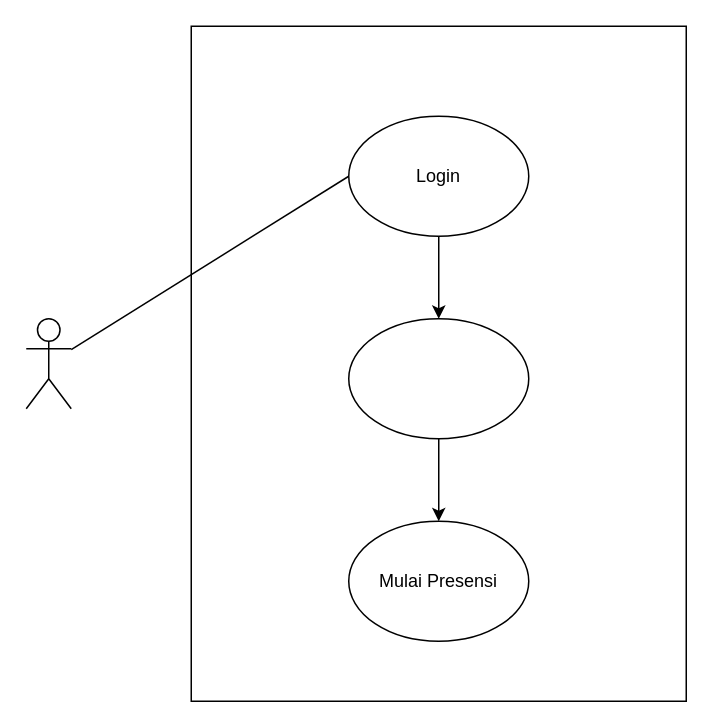
Some shapes in this 713 by 728 pixel diagram are drawn without their labels. The shapes that lost their labels are listed below. From the top down, each one's centre as x and y in pixels, then its label:
At point 48,363: "Guru".
At point 438,378: "Pilih Jadwal Pelajaran".
